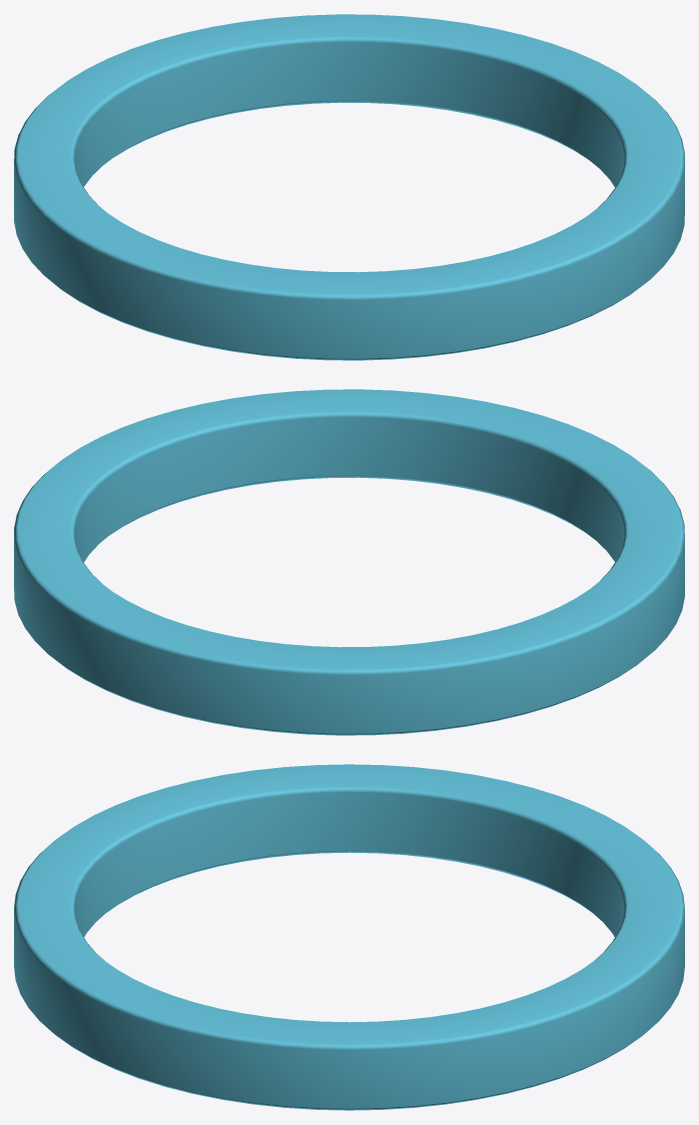
3 views of the same model, one above another, from view 1: azimuth 30°, elevation 25°; view 2: azimuth 150°, elevation 25°; view 3: azimuth 270°, elevation 25° (orthographic).
Parts seen in each view (by area): view 1: seal_body; view 2: seal_body; view 3: seal_body.
Part boxes in pixels (box(x1,y1,x2,y2)): seal_body: box(14, 14, 684, 360); seal_body: box(14, 389, 684, 735); seal_body: box(14, 764, 684, 1110).
Size of the model in its own units: 0.11 by 0.012 by 0.11.
